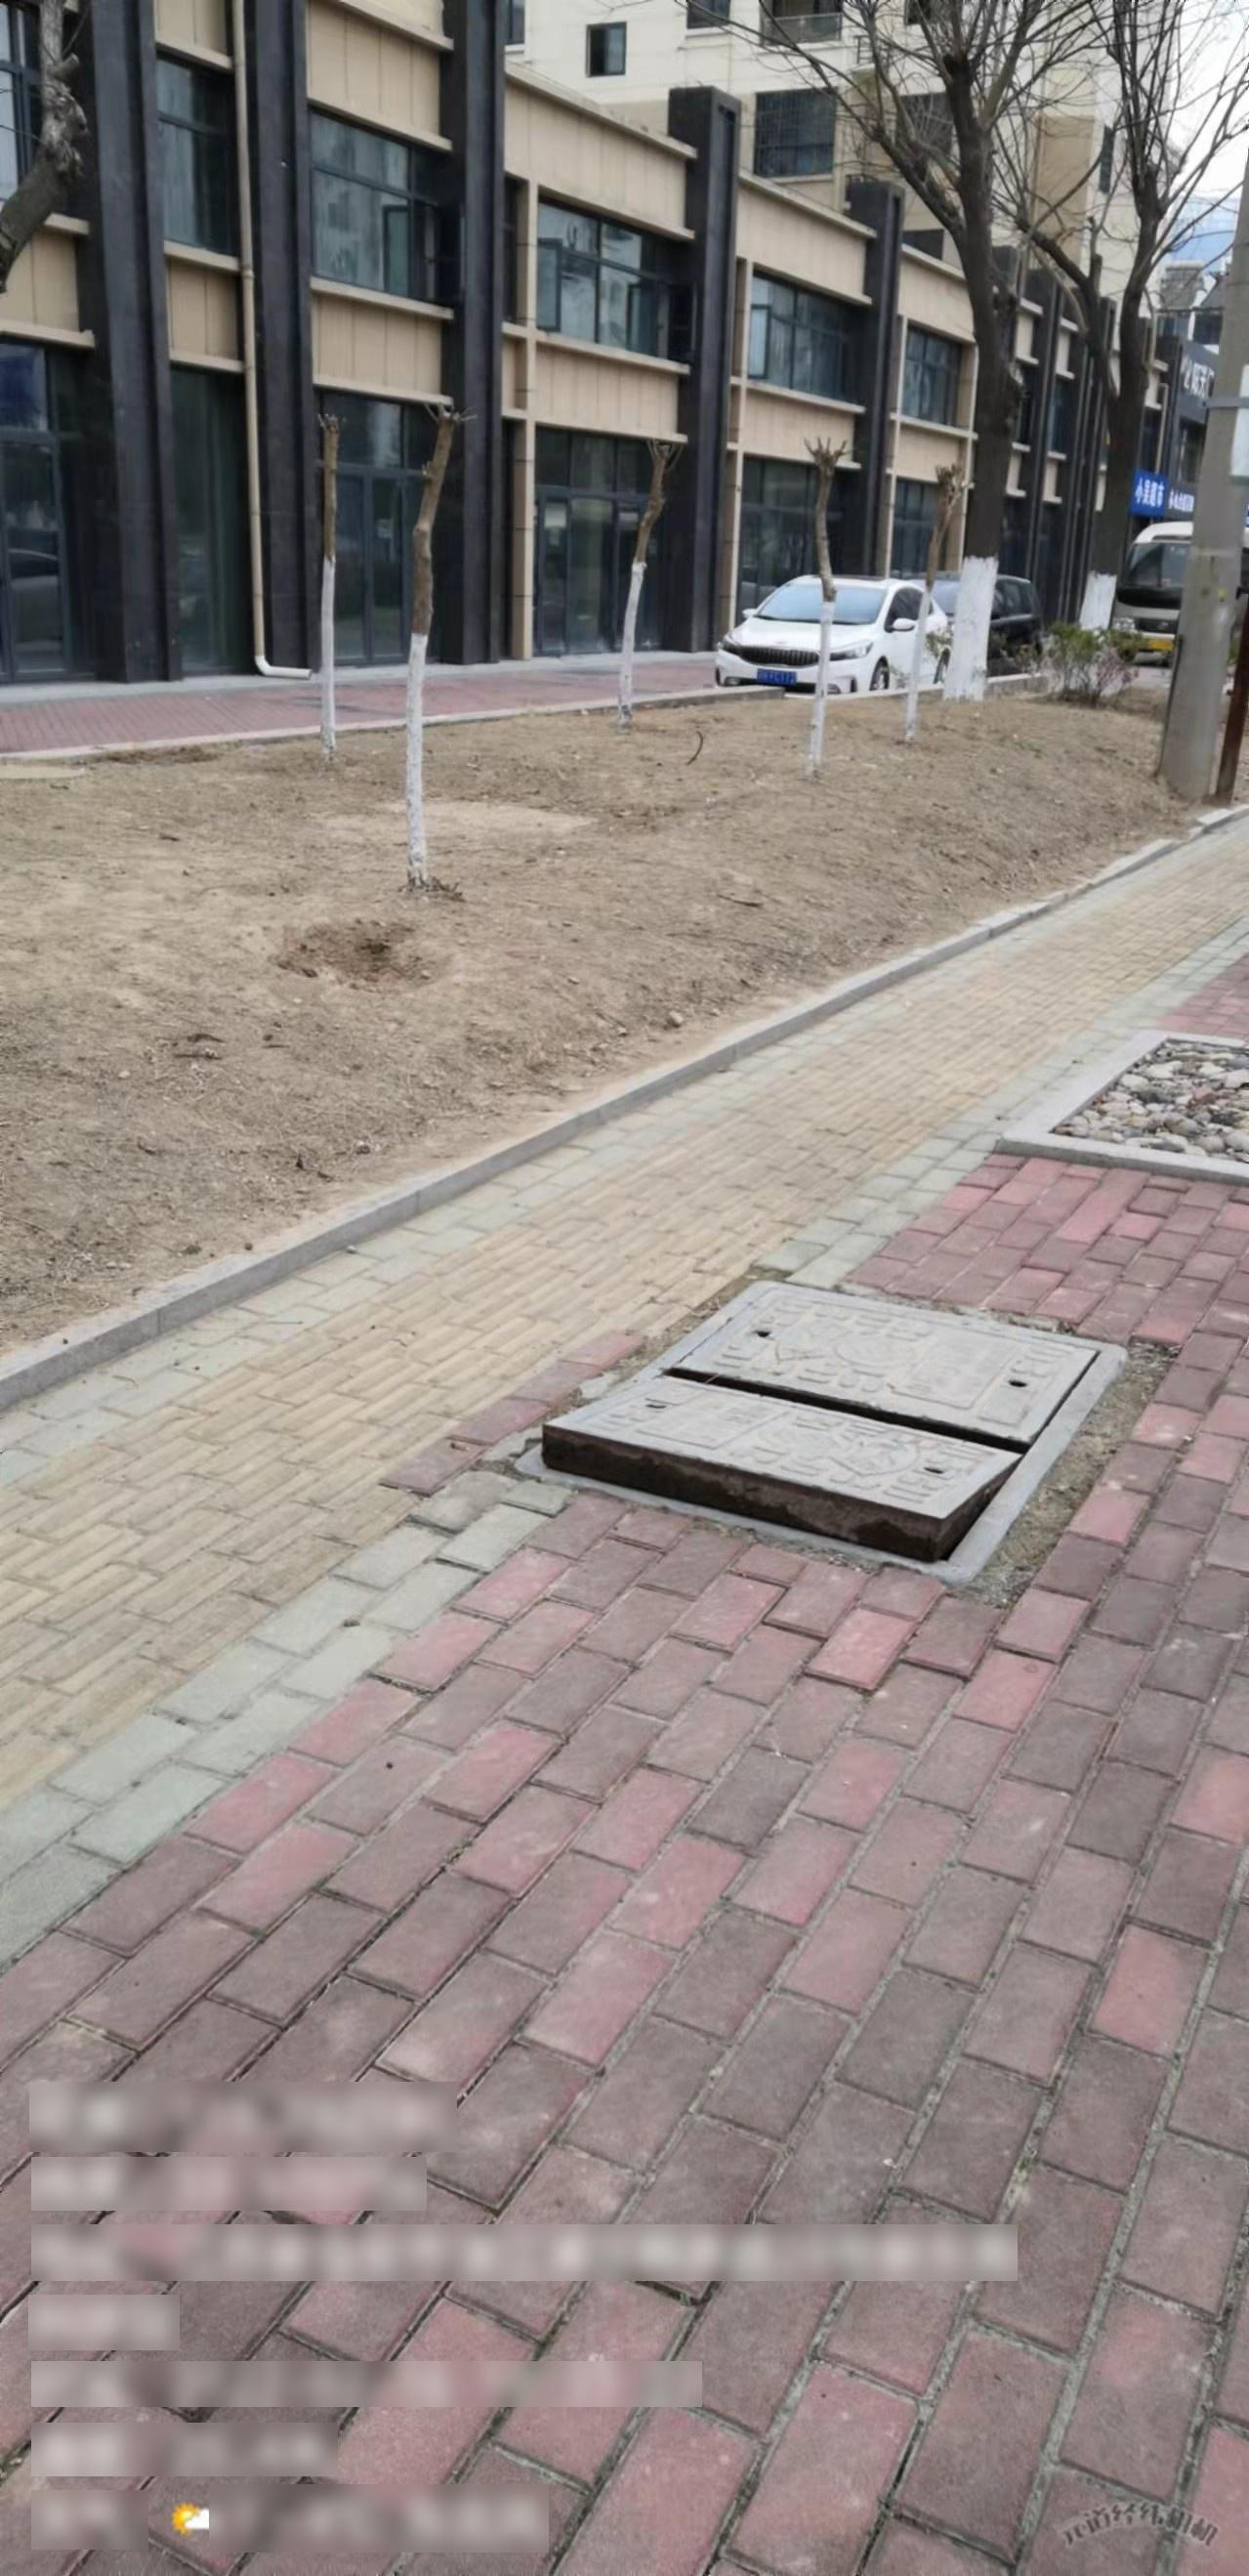wellcover: (524, 1242, 1233, 1633)
